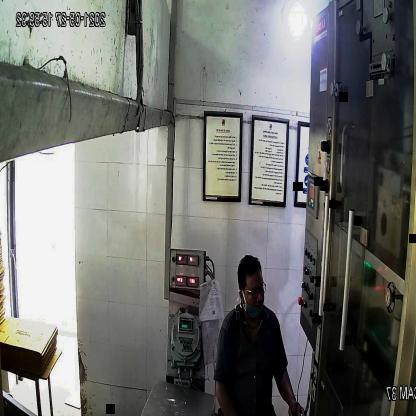goggles: (239, 274, 270, 302)
